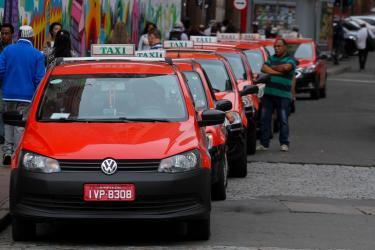placa_antiga: (84, 184, 135, 201)
